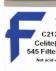Fisher: (3, 9, 48, 64)
